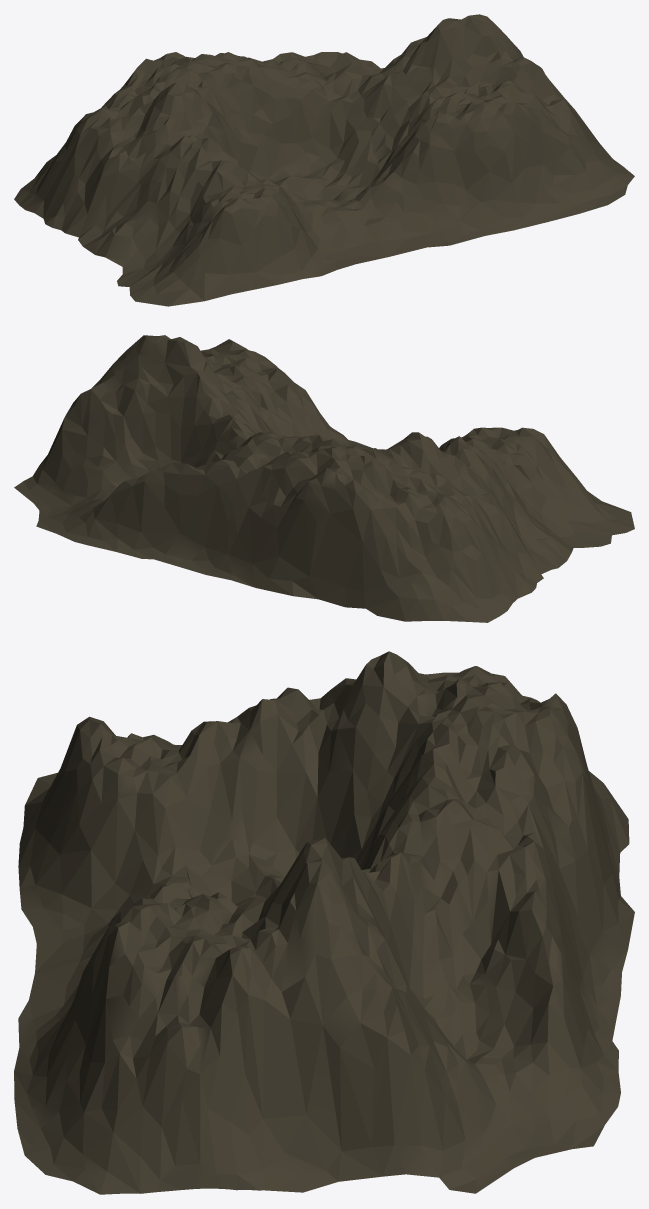
Rendered from mountain_front.dae.
3 views of the same model, one above another, from view 1: azimuth 30°, elevation 25°; view 2: azimuth 150°, elevation 25°; view 3: azimuth 270°, elevation 25° (orthographic). The views are drawn at different scales.
Visible parts, largest first — view 1: Mounting_2; view 2: Mounting_2; view 3: Mounting_2.
Part boxes in pixels (x1,y1,x2,y2): Mounting_2: [14, 14, 634, 306]; Mounting_2: [14, 335, 634, 622]; Mounting_2: [14, 651, 634, 1194].
Bounding box in the file's own units: 32.4 × 19.7 × 8.82.
1 material, 1 textured.
